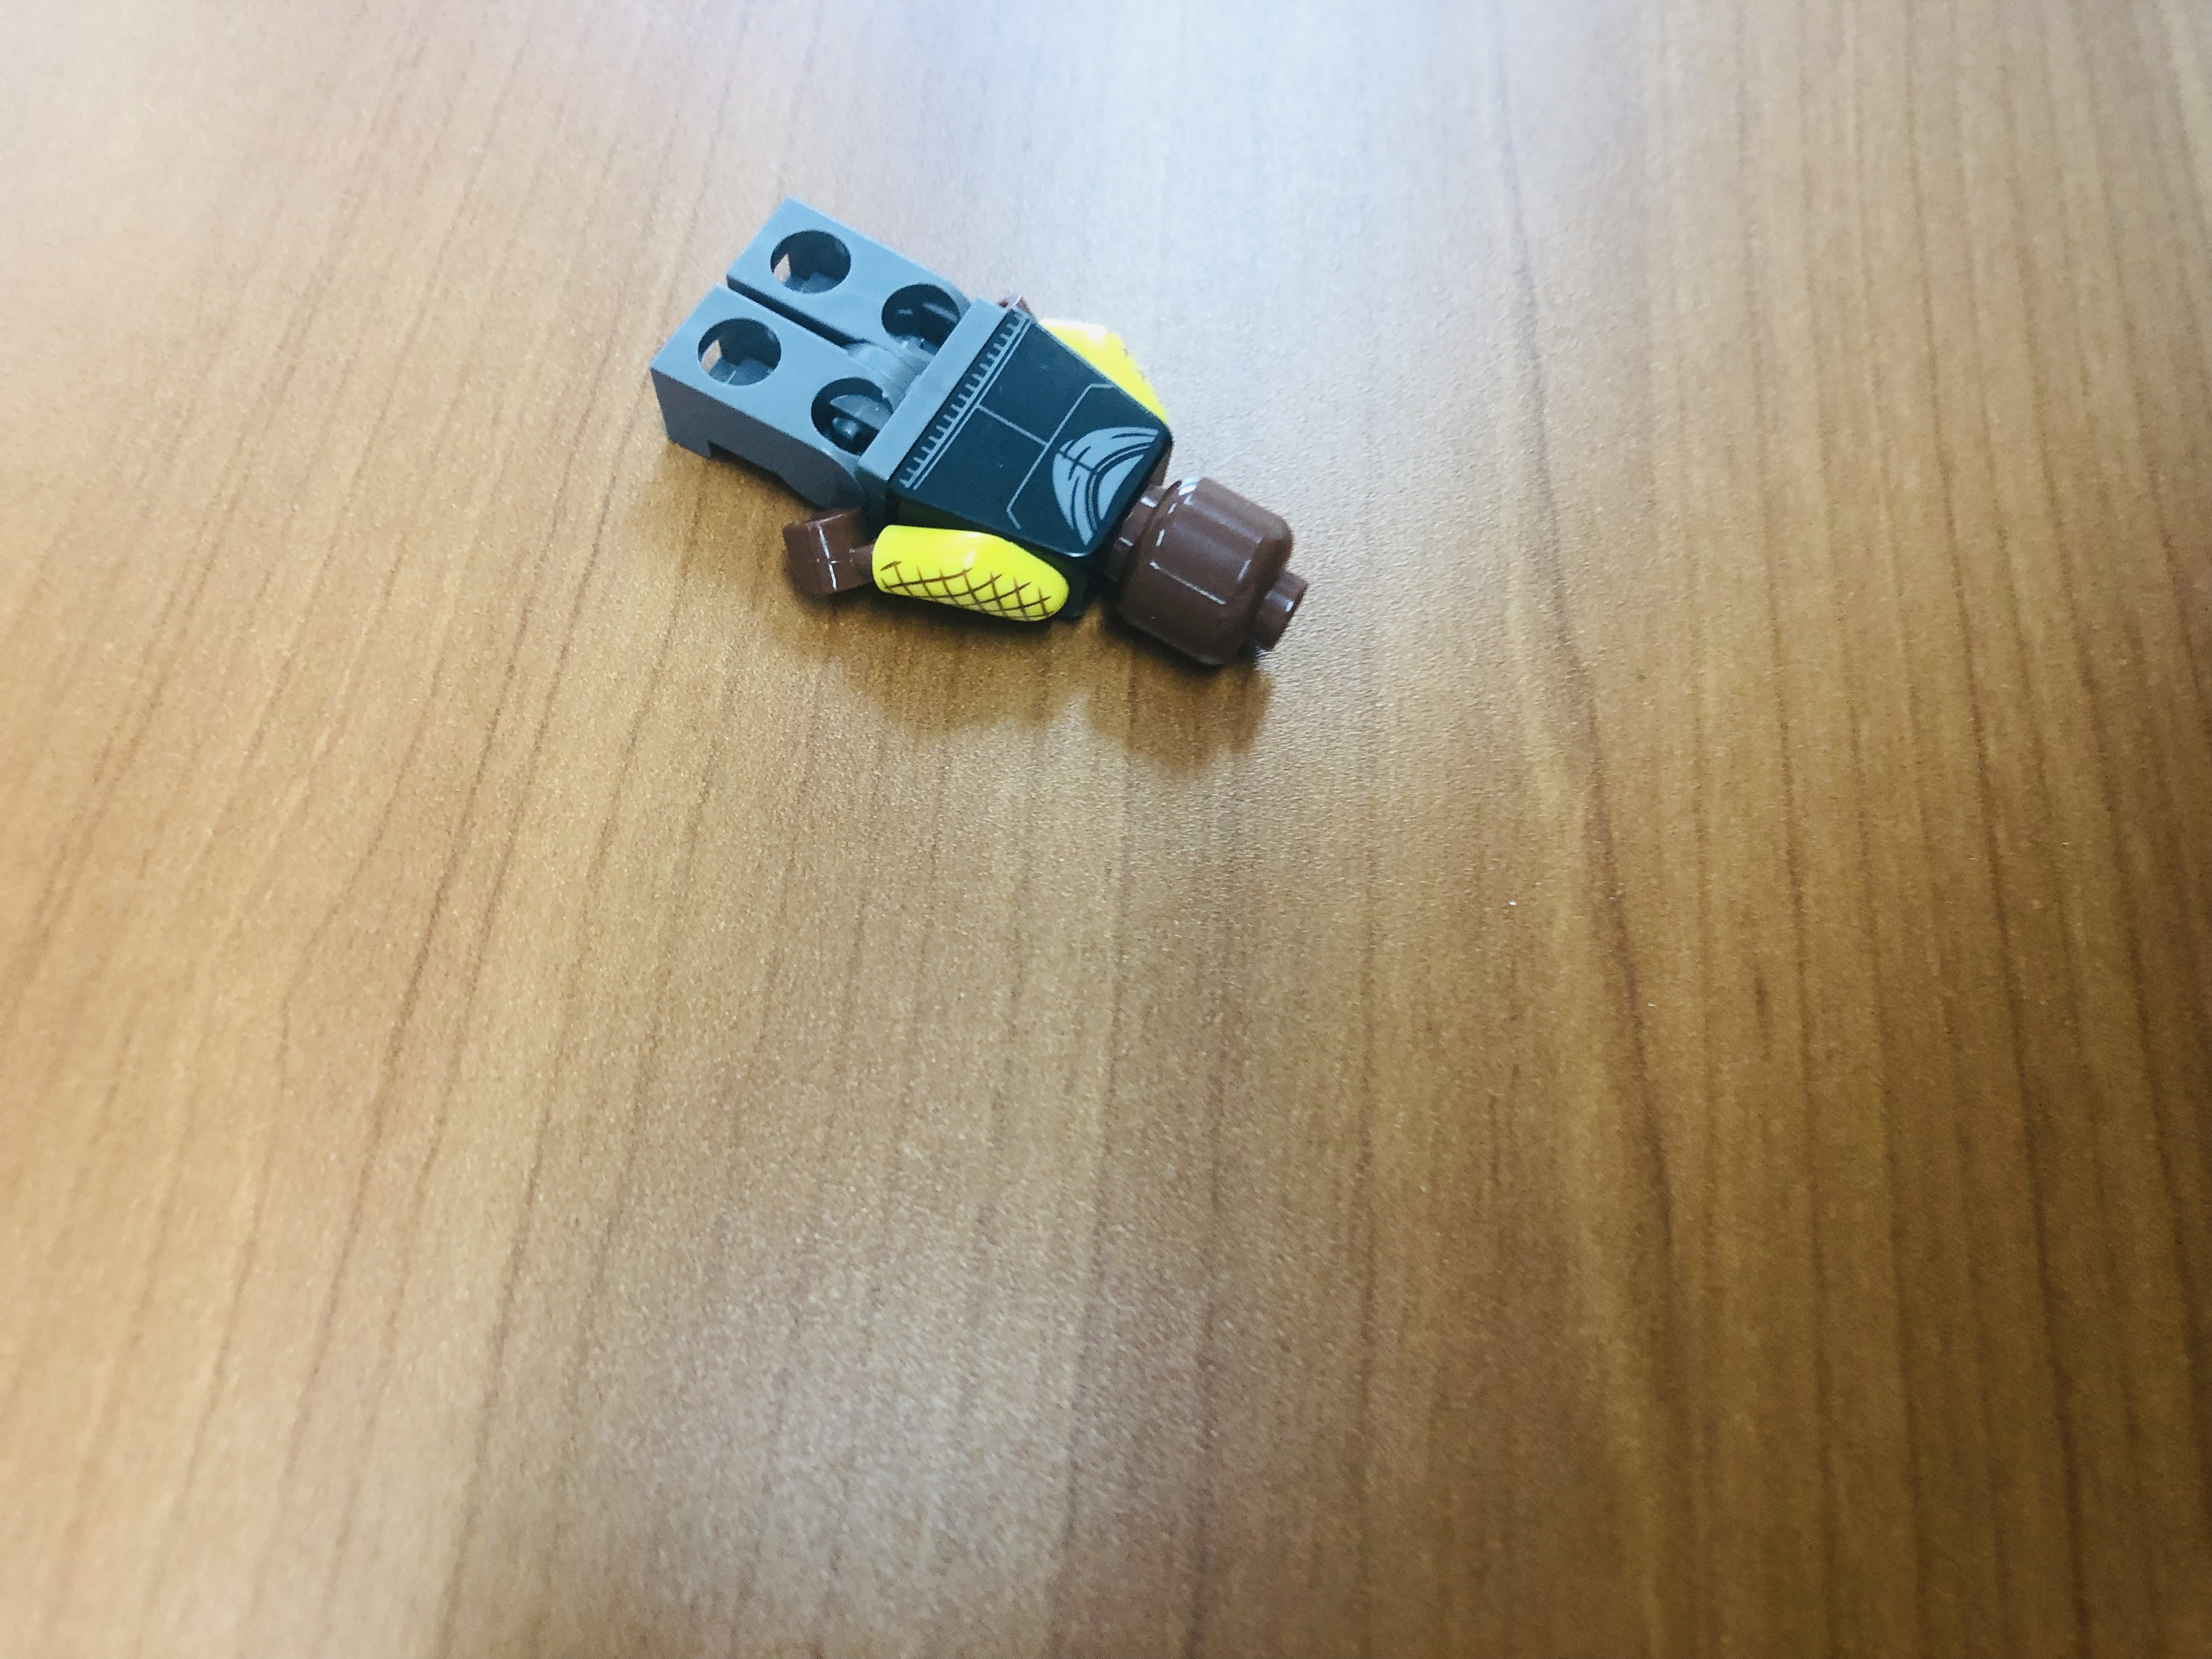people: (606, 180, 1362, 729)
